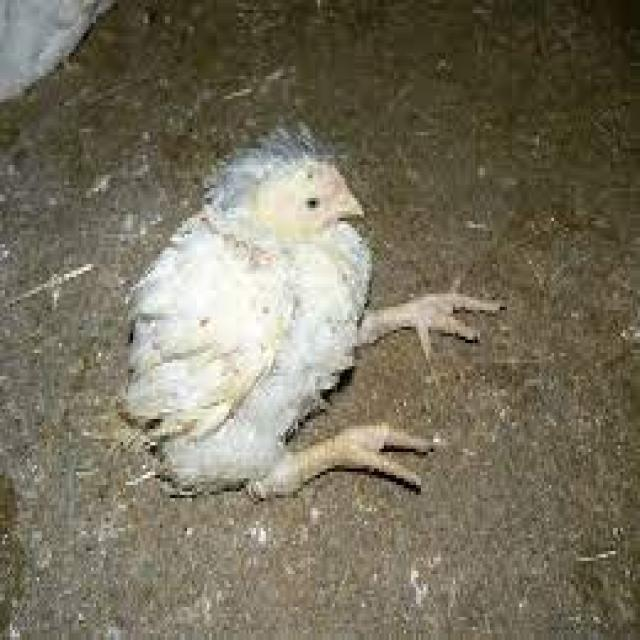AbNormal: (137, 152, 496, 502)
